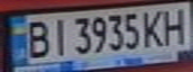3: (69, 14, 93, 56), (106, 11, 127, 52)
5: (121, 10, 145, 51)
9: (90, 12, 109, 54)
B: (21, 17, 51, 59)
H: (160, 4, 193, 45)
I: (48, 16, 69, 56)
K: (139, 7, 169, 48)
